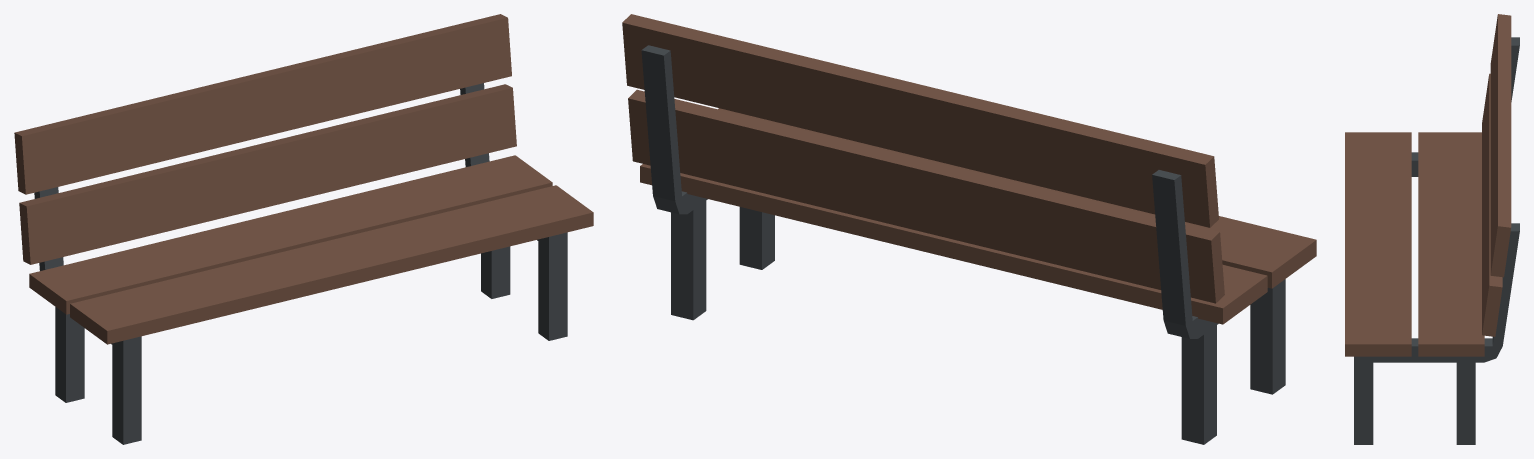
The model's file is Bench_01.fbx.
3 renders of one model, left to right at view 1: azimuth 30°, elevation 25°; view 2: azimuth 150°, elevation 25°; view 3: azimuth 270°, elevation 25°, orthographic. The views are drawn at different scales.
Parts seen in each view (by area): view 1: Bench_01; view 2: Bench_01; view 3: Bench_01.
Boxes of the visible parts, box(x1,y1,x2,y2) form: Bench_01: box(14, 14, 593, 444); Bench_01: box(622, 14, 1316, 444); Bench_01: box(1345, 14, 1519, 444).
Size of the model in its own units: 193 by 96.91 by 67.39.
